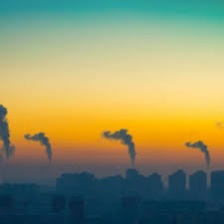smoke: (1, 106, 53, 167), (98, 122, 148, 175), (189, 141, 217, 169)
